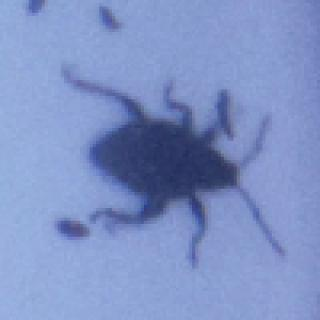bvw: (56, 61, 286, 268)
